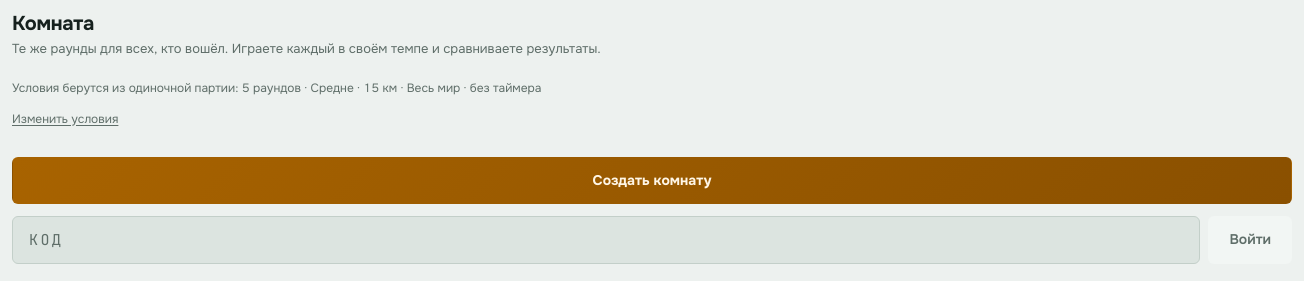
Test case: MatchRoom › не пускает по недобранному коду
The image size is (1304, 281).
Type "ab3k" into the field named "Код комнаты".
click(606, 240); type("ab3k")  # box [12,216,1200,264]
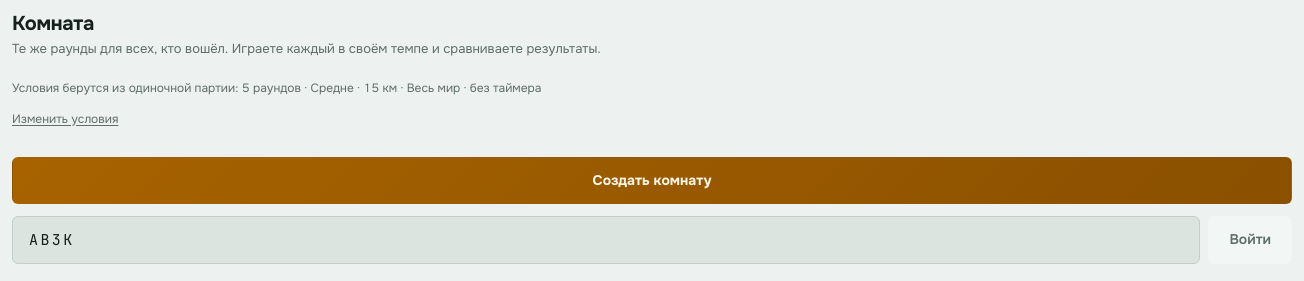
Expected: the button "Войти" is disabled, [1208,216,1292,264]
Replace the text in the field named "Код комнаты" with "ab3k9x" at (606, 240), box [12,216,1200,264]
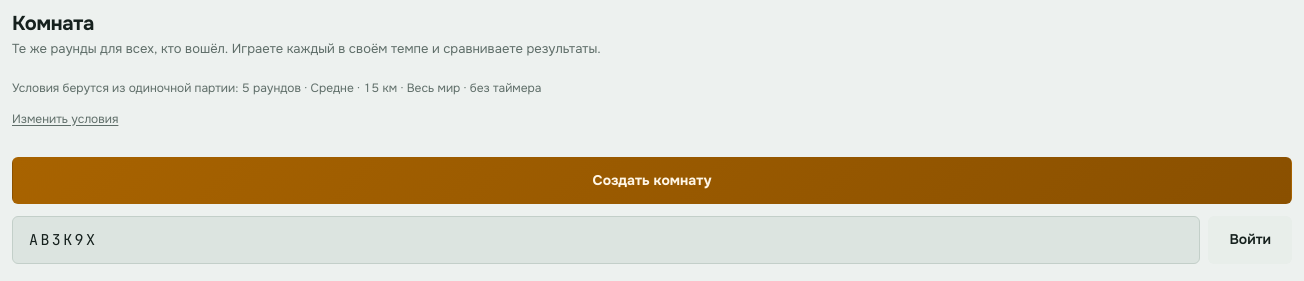
Result: the button "Войти" is enabled at [1208,216,1292,264]
